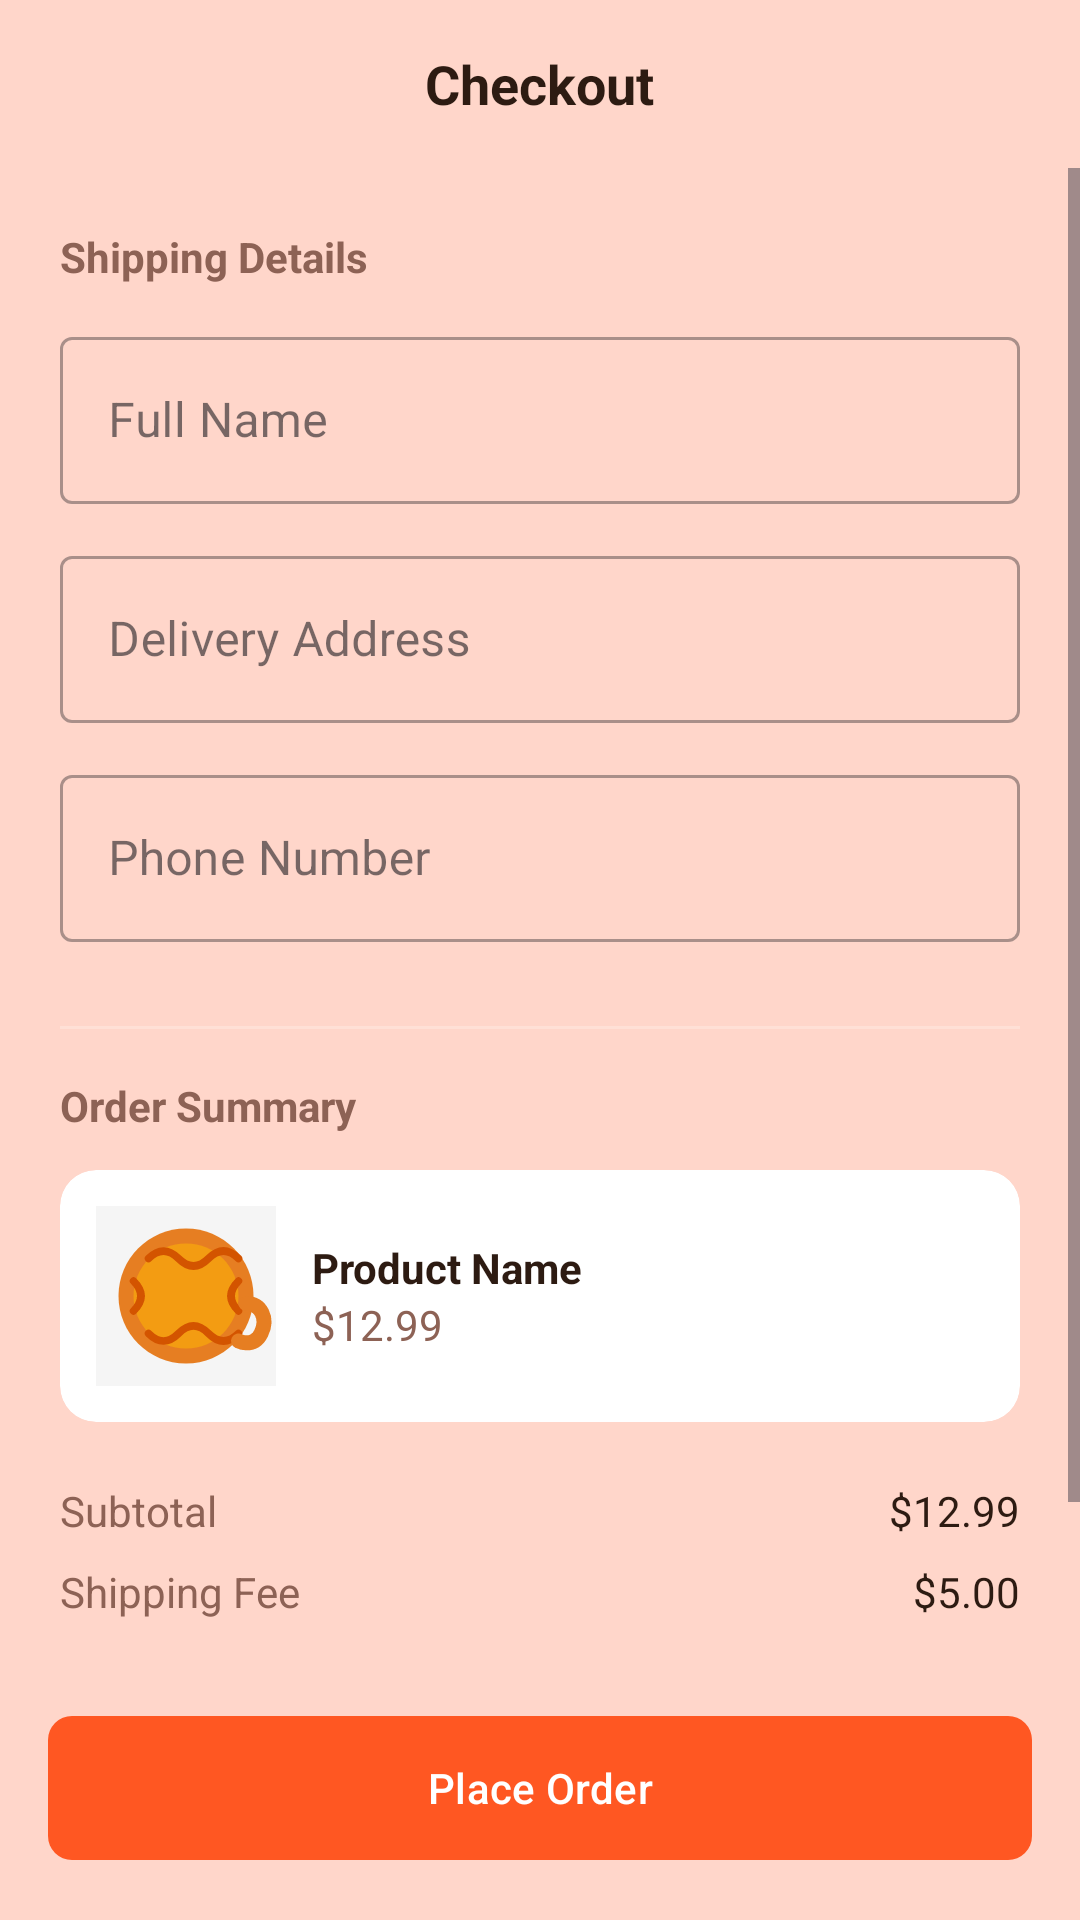

Where to tap for icons on this 1080×1920 app screen, as point (x, y):
yarn: point (195, 1296)
